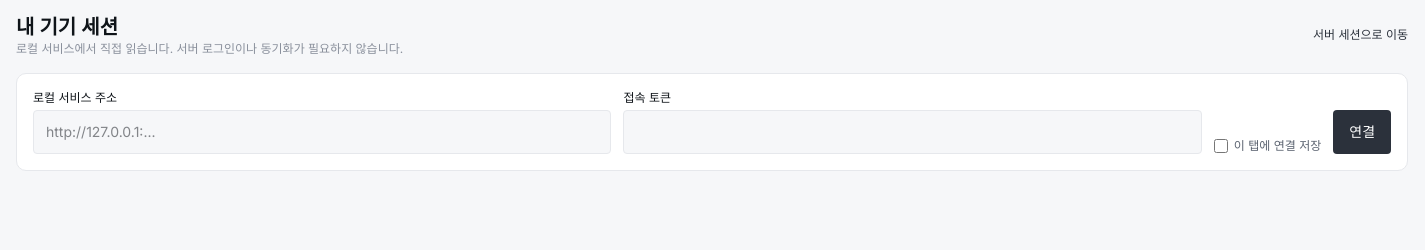
Scenario: LocalSessionsPanel › keeps unauthorized visible rather than presenting an empty list
The width and height of the screenshot is (1425, 250).
Type "http://127.0.0.1:4567" into the field labelled "로컬 서비스 주소" at (322, 132), box [33,110,611,154]
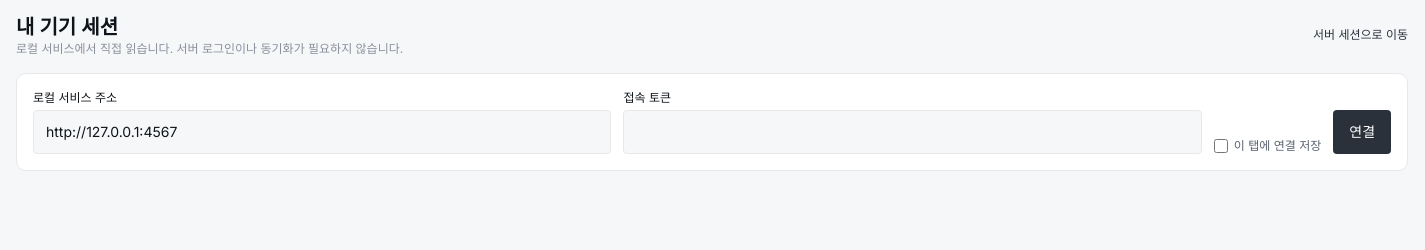
Type "temporary-value" into the password field labelled "접속 토큰" at (913, 132), box [623,110,1202,154]
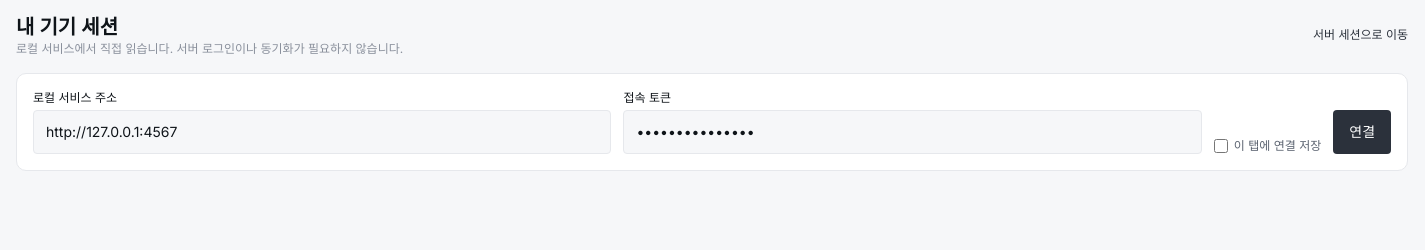
Click the button "연결" at (1362, 132), box [1333,110,1391,154]
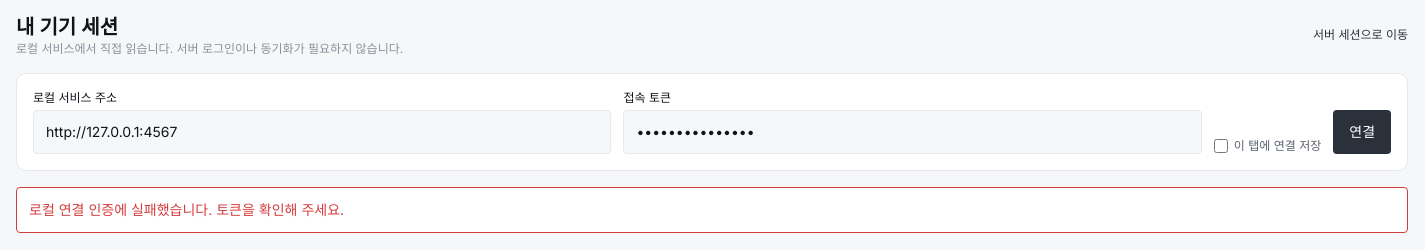
Now the message shows "인증에 실패", box [29,201,344,218]
